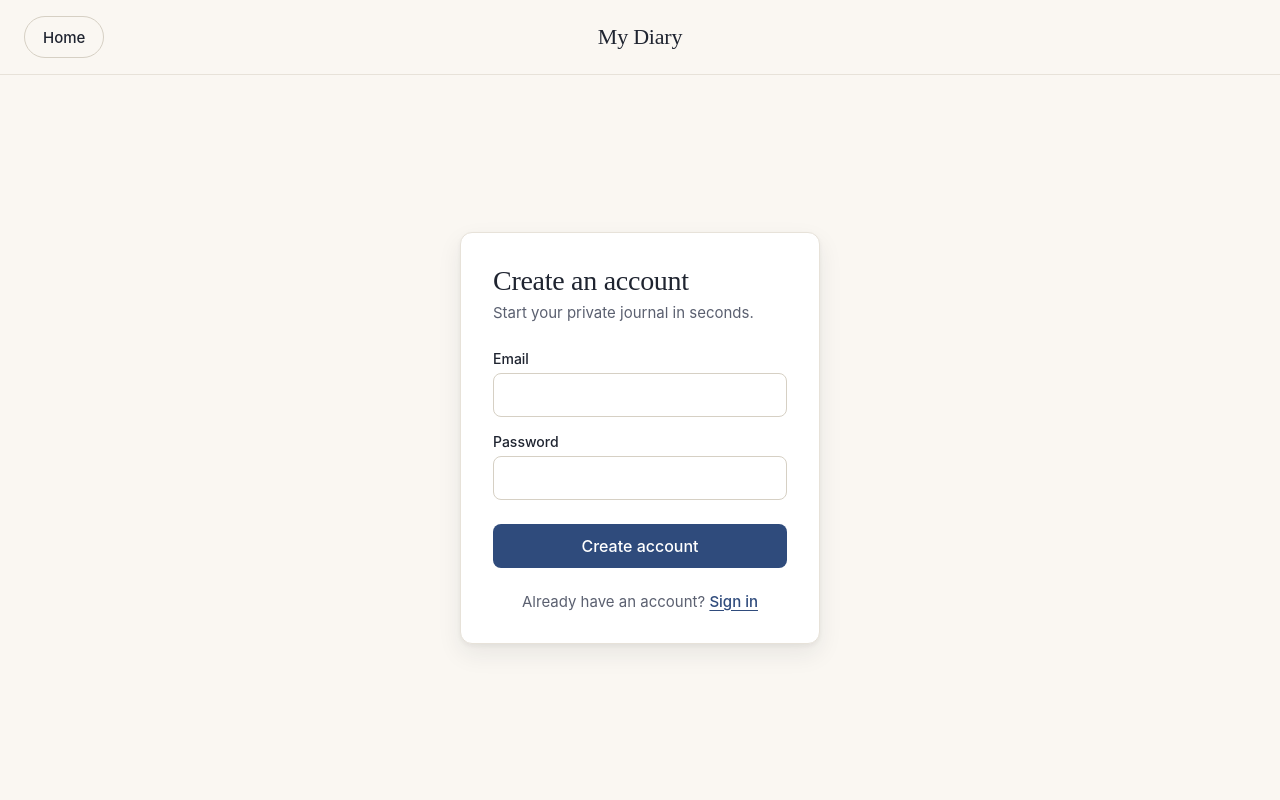
SignUp › shows an error and stays on the page when registration fails
The image size is (1280, 800).
Step 1. Type "new@example.com" into the field labelled "Email" → (640, 394), box [493, 372, 787, 416]
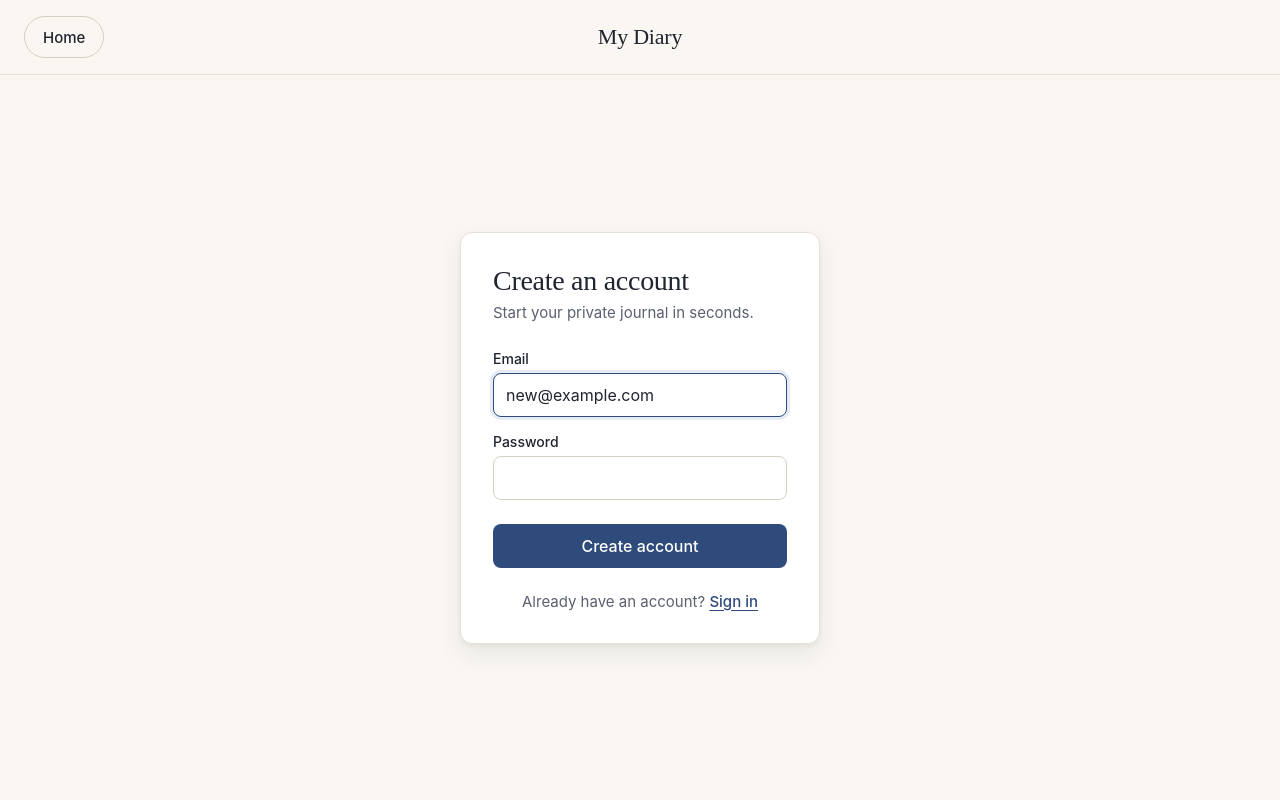
Step 2. Type "secret123" into the password field labelled "Password" → (640, 478), box [493, 456, 787, 500]
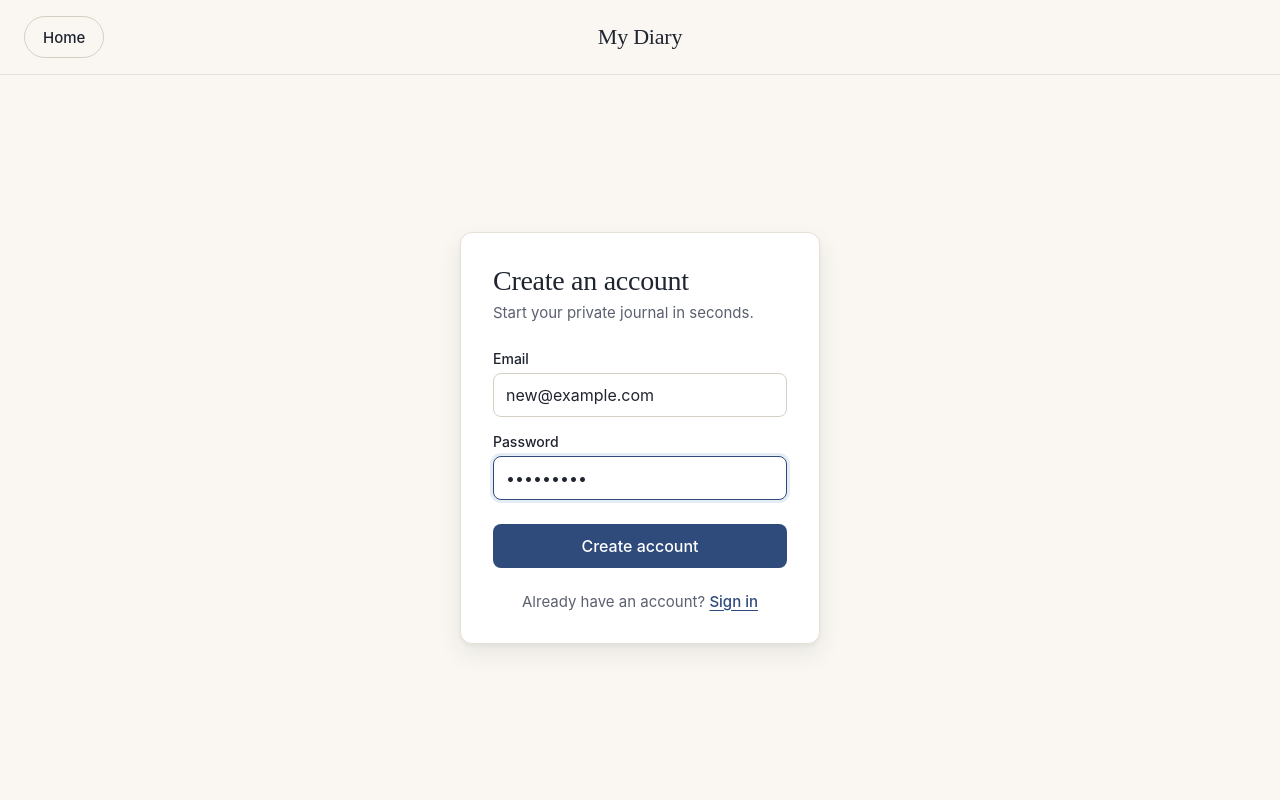
Step 3. Click the button "Create account" → (640, 546), box [493, 524, 787, 568]
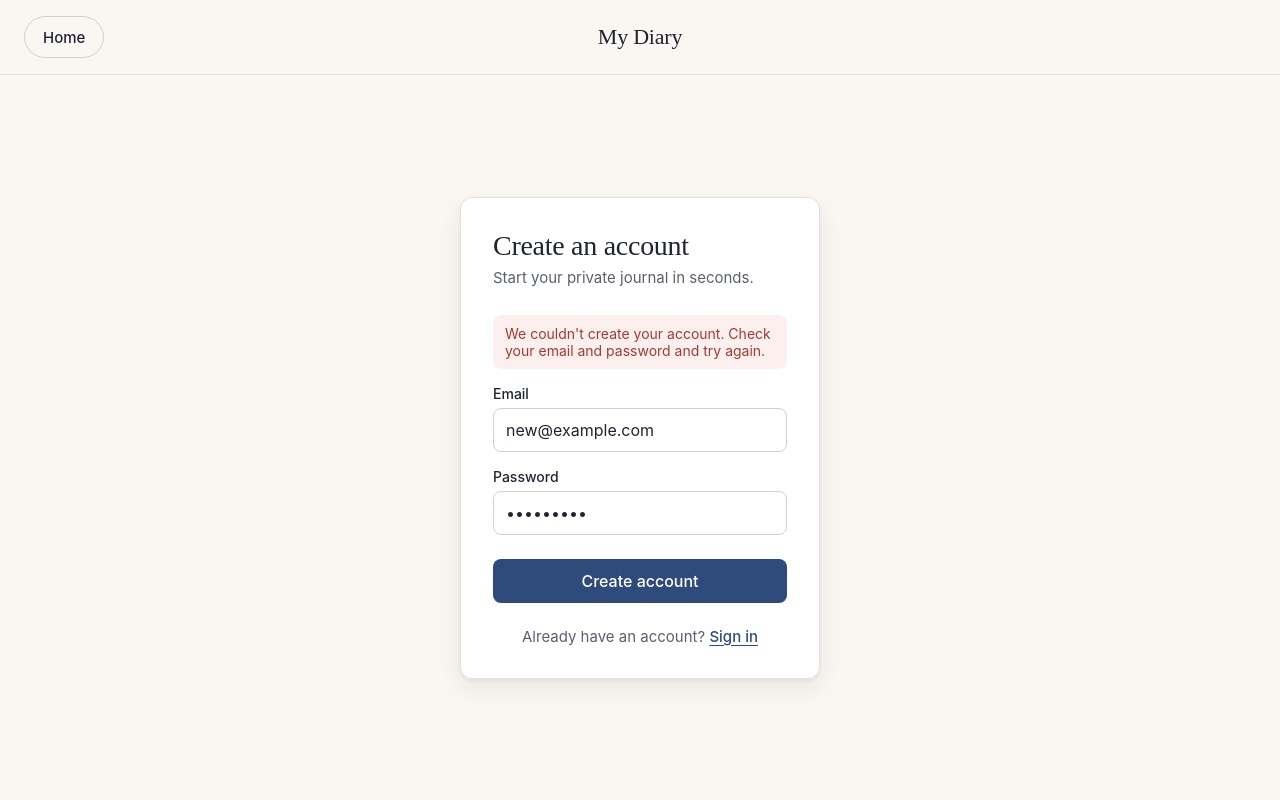
Expected: the button "Create account" is enabled, [493, 558, 787, 602]
Expected: the message shows "We couldn't create your account", [505, 324, 771, 358]
